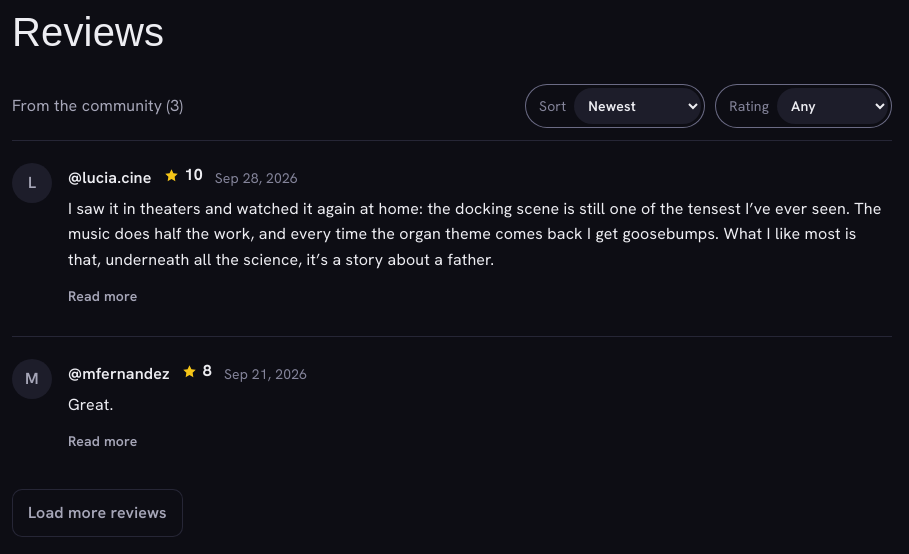
Test: reseñas de la comunidad › si el texto recortado se corta, ofrece «Read more» y lo despliega
The width and height of the screenshot is (909, 554).
Click the button "Read more" below "lucia.cine" at (103, 296), box x1=68 y1=278 x2=137 y2=314
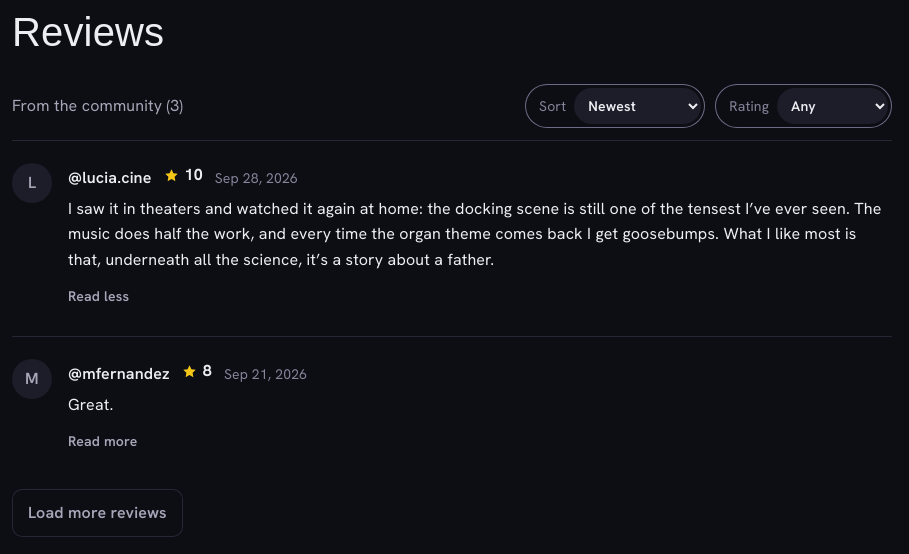
Expected: the button "Read less" is shown, x1=68 y1=278 x2=129 y2=314
